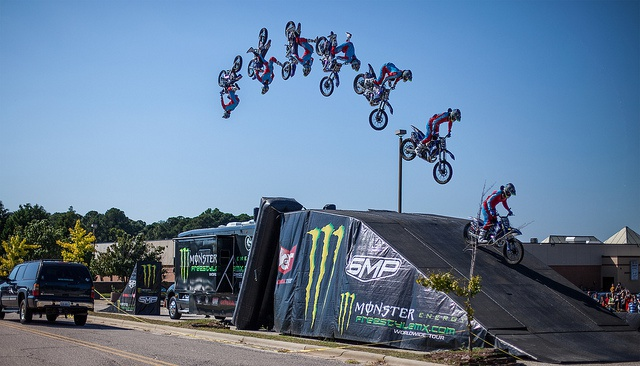non-vehicle: (399, 125, 454, 183), (463, 213, 523, 264), (353, 63, 392, 129), (315, 31, 346, 96), (247, 27, 270, 79), (281, 20, 300, 79), (217, 55, 242, 94)
